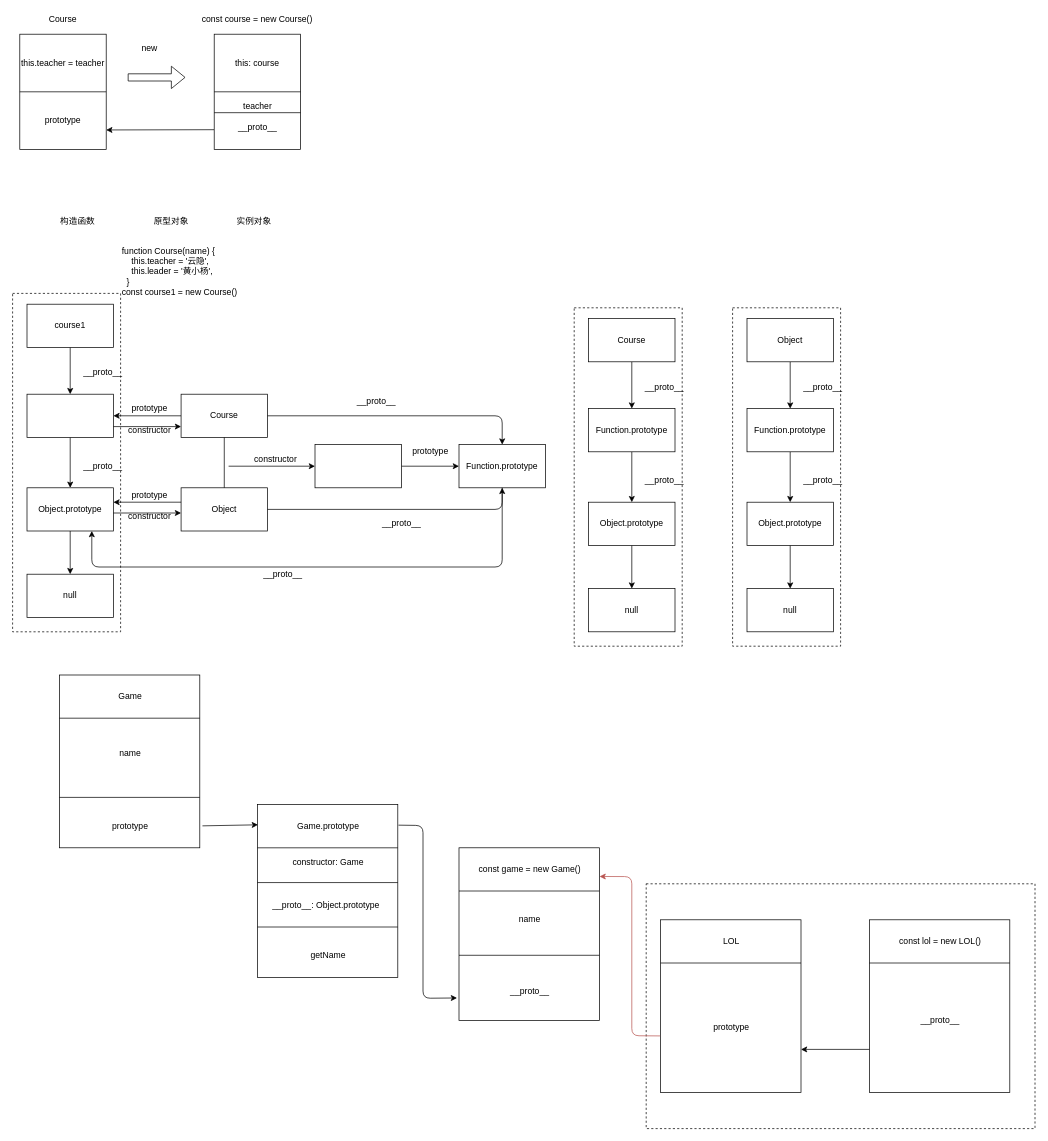
Image size: 1048x1141. Some labels were removed from this diagram. The shapes that lost their labels are listed below. From the top down, each one's centre as x and y in pixels, then its label:
pixel 69 415: Course.prototype
pixel 357 466: Function
